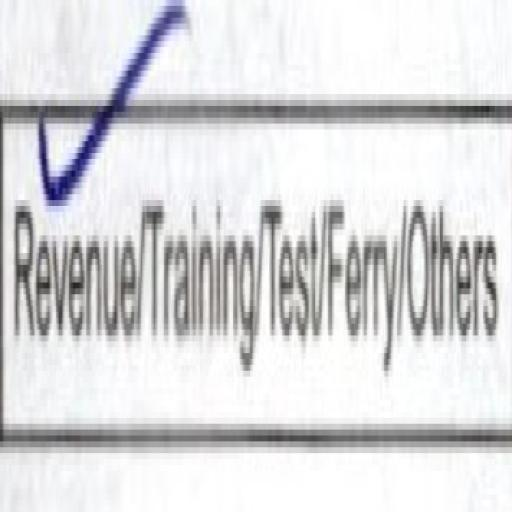check: (0, 28, 135, 471)
